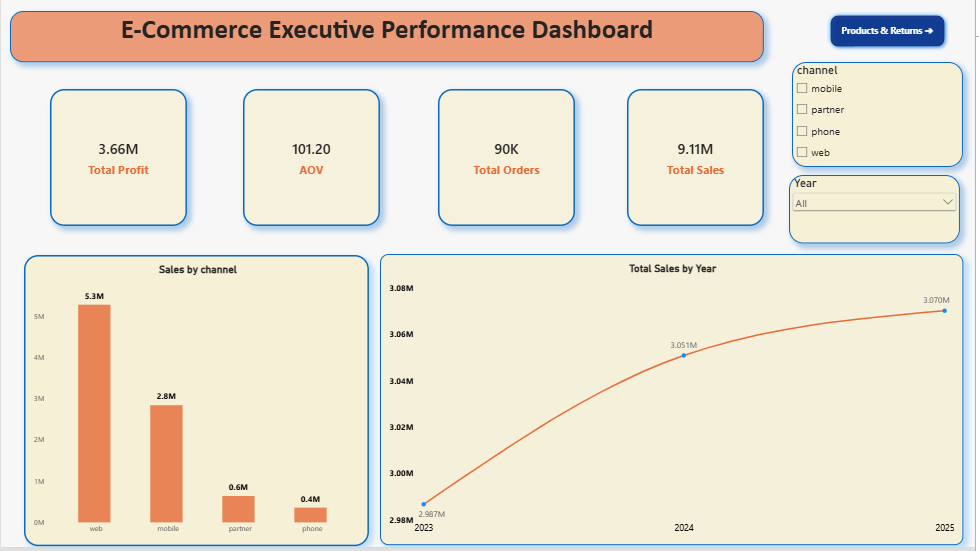

Layout of this report page (visuals, bound fields, positions):
{"tool":"powerbi","page":{"name":"Page 1","canvas":[1920,1080],"ordinal":0},"visuals":[{"type":"card","fields":{"Values":["Key_Metrics.Total Orders"]},"box":[861.4,177.4,270,270],"z":0},{"type":"card","fields":{"Values":["Key_Metrics.Total Profit"]},"box":[96.6,177.4,270,270],"z":1000},{"type":"card","fields":{"Values":["Key_Metrics.AOV"]},"box":[477,177.4,270,270],"z":2000},{"type":"card","fields":{"Values":["Key_Metrics.Total Sales"]},"box":[1234,177.4,270,270],"z":3000},{"type":"clusteredColumnChart","title":"Sales by channel","fields":{"Category":["orders.channel"],"Y":["Key_Metrics.Channel Sales"]},"box":[45.1,505.5,679.8,574],"z":4000},{"type":"lineChart","fields":{"Category":["orders.ordered_at.Variation.Date Hierarchy.Year"],"Y":["Key_Metrics.Total Sales"]},"box":[746.4,503.5,1150,574],"z":5000},{"type":"textbox","box":[17.7,23.7,1486.3,100.5],"z":6000},{"type":"slicer","fields":{"Values":["orders.ordered_at.Variation.Date Hierarchy.Year"]},"box":[1553.3,346.9,336.6,135],"z":7000},{"type":"slicer","fields":{"Values":["orders.channel"]},"box":[1559.3,124.2,336.6,207.5],"z":8000},{"type":"actionButton","box":[1626.3,23.7,242.5,78.9],"z":9000}]}

Visuals, with their boxes in screenshot pixels (x1, y1, x2, y2), scaled from the page's 1920x1080 canvas onto the 979x551 screenshot:
card - Key_Metrics.Total Orders: (439,91,577,228)
card - Key_Metrics.Total Profit: (49,91,187,228)
card - Key_Metrics.AOV: (243,91,381,228)
card - Key_Metrics.Total Sales: (629,91,767,228)
"Sales by channel" clusteredColumnChart: (23,258,370,550)
lineChart - orders.ordered_at.Variation.Date Hierarchy.Year x Key_Metrics.Total Sales: (381,257,967,550)
textbox: (9,12,767,63)
slicer - orders.ordered_at.Variation.Date Hierarchy.Year: (792,177,964,246)
slicer - orders.channel: (795,63,967,169)
actionButton: (829,12,953,52)
